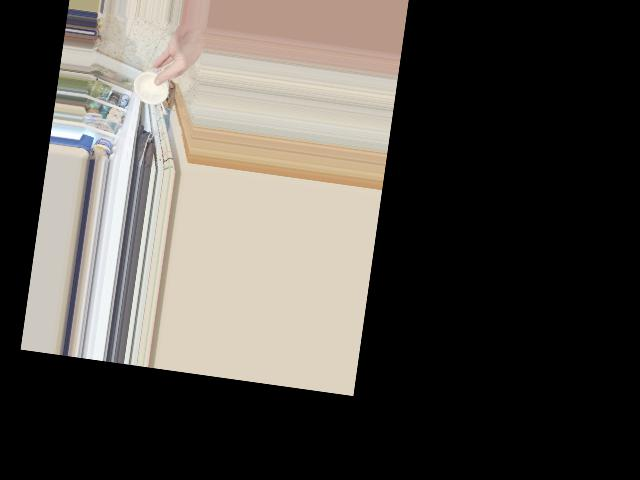cotage: (131, 62, 172, 111)
